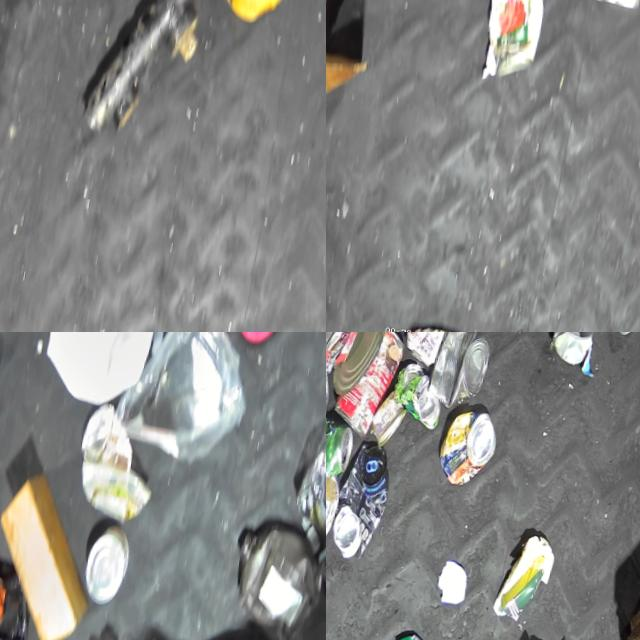can: (330, 332, 409, 439), (330, 440, 399, 562), (479, 0, 560, 81), (425, 332, 498, 411), (437, 405, 504, 488), (80, 522, 144, 608), (330, 332, 394, 398), (392, 359, 449, 429), (369, 387, 413, 447), (401, 332, 464, 368), (326, 413, 360, 479), (326, 471, 345, 556), (549, 332, 600, 363)
milk_jug: (28, 332, 172, 413)
